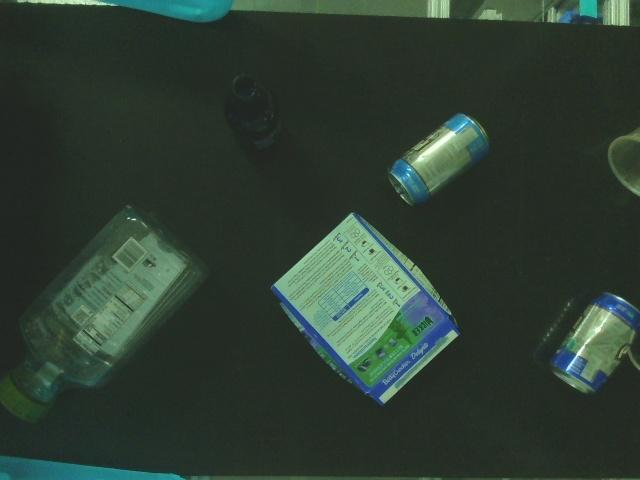cardboard: (268, 211, 461, 410)
glass: (226, 74, 286, 160)
metal: (384, 111, 492, 207), (548, 289, 640, 395)
plastic: (0, 202, 212, 426), (607, 118, 640, 200)
